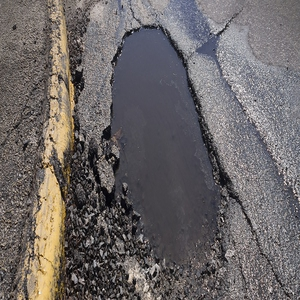pothole: (99, 16, 238, 292)
